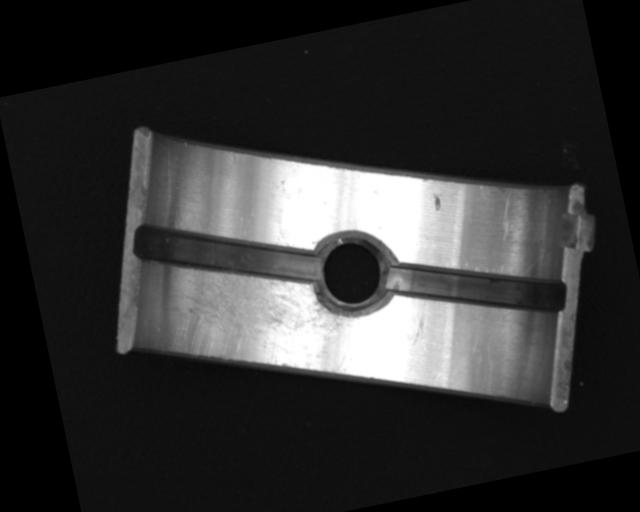bruise: (431, 193, 444, 213)
gap: (131, 191, 321, 314), (383, 234, 569, 345)
hole: (303, 221, 404, 324)
nick: (403, 300, 435, 346), (491, 191, 519, 243)
scratch: (162, 237, 372, 413)
